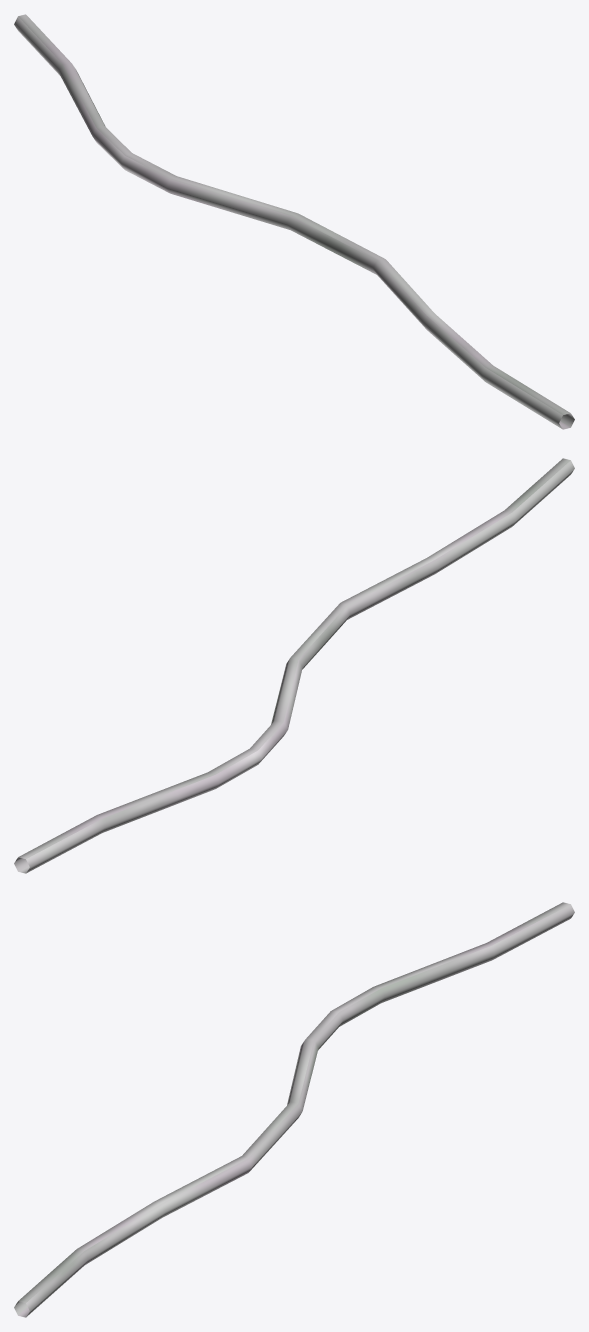
File: cable_wavy_small.dae
3 renders of one model, top to bottom at view 1: azimuth 30°, elevation 25°; view 2: azimuth 150°, elevation 25°; view 3: azimuth 330°, elevation 25°, orthographic.
Parts seen in each view (by area): view 1: Mesh; view 2: Mesh; view 3: Mesh.
Part boxes in pixels (x1=…): Mesh: x1=14, y1=14, x2=574, y2=429; Mesh: x1=14, y1=458, x2=574, y2=873; Mesh: x1=14, y1=902, x2=574, y2=1317.
Bounding box in the file's own units: 0.103 × 0.0151 × 1.
